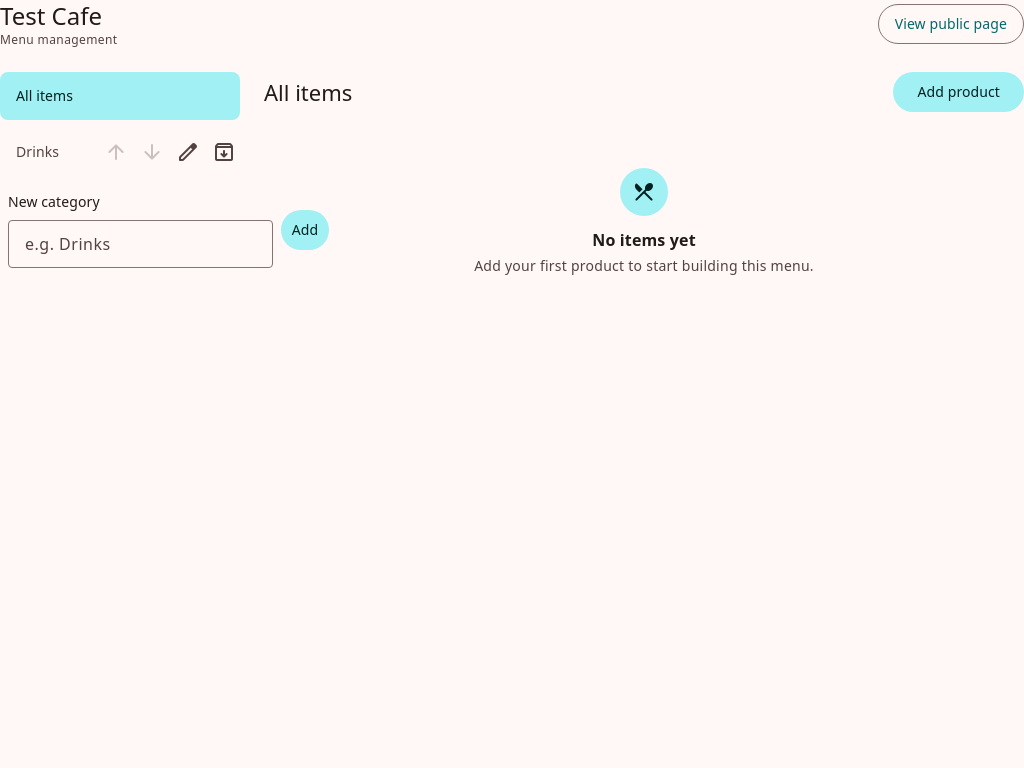
Test case: MenuManager create-product category default › defaults the product form's category to the currently-selected category tab
The image size is (1024, 768).
Click the button "Drinks". click: click(48, 152)
box: [0,128,96,176]
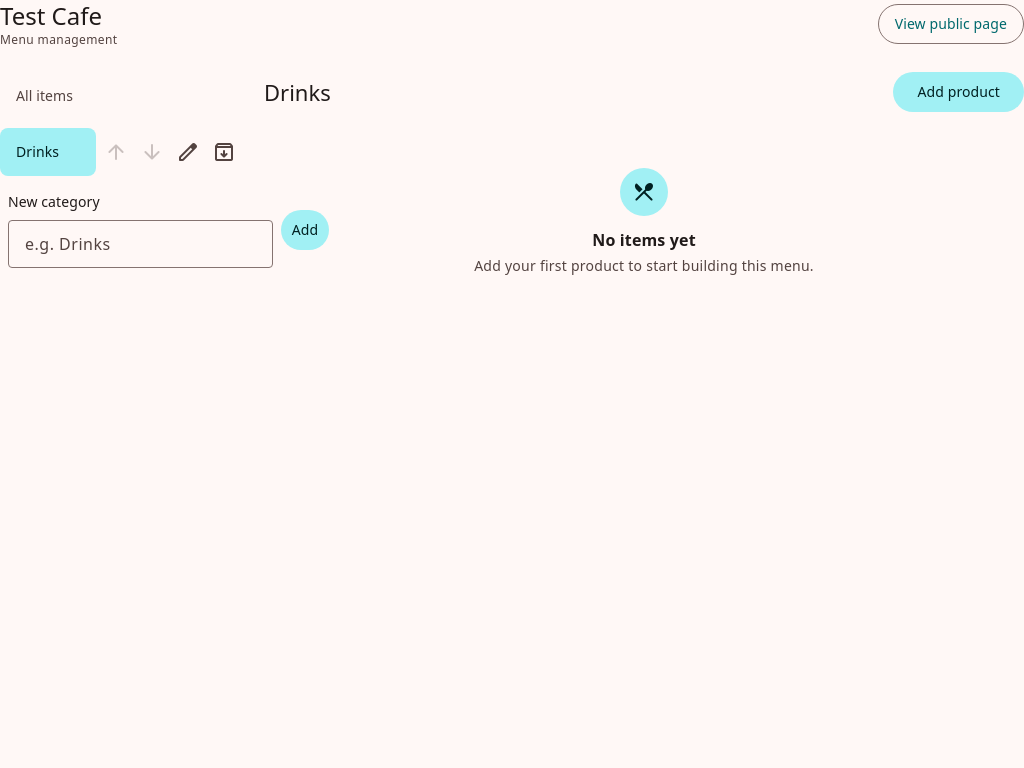
Click the button "Add product". click: click(959, 92)
box: [894,72,1023,112]
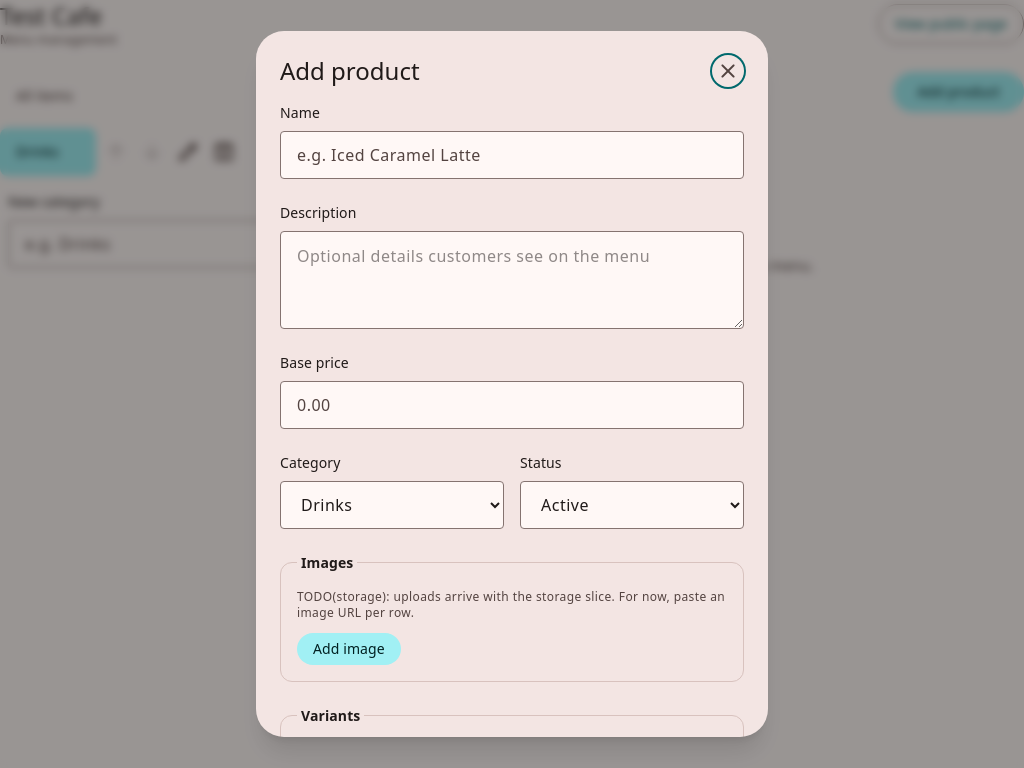
Now the dropdown labelled "Category" shows "Drinks", box [280,481,504,529]
